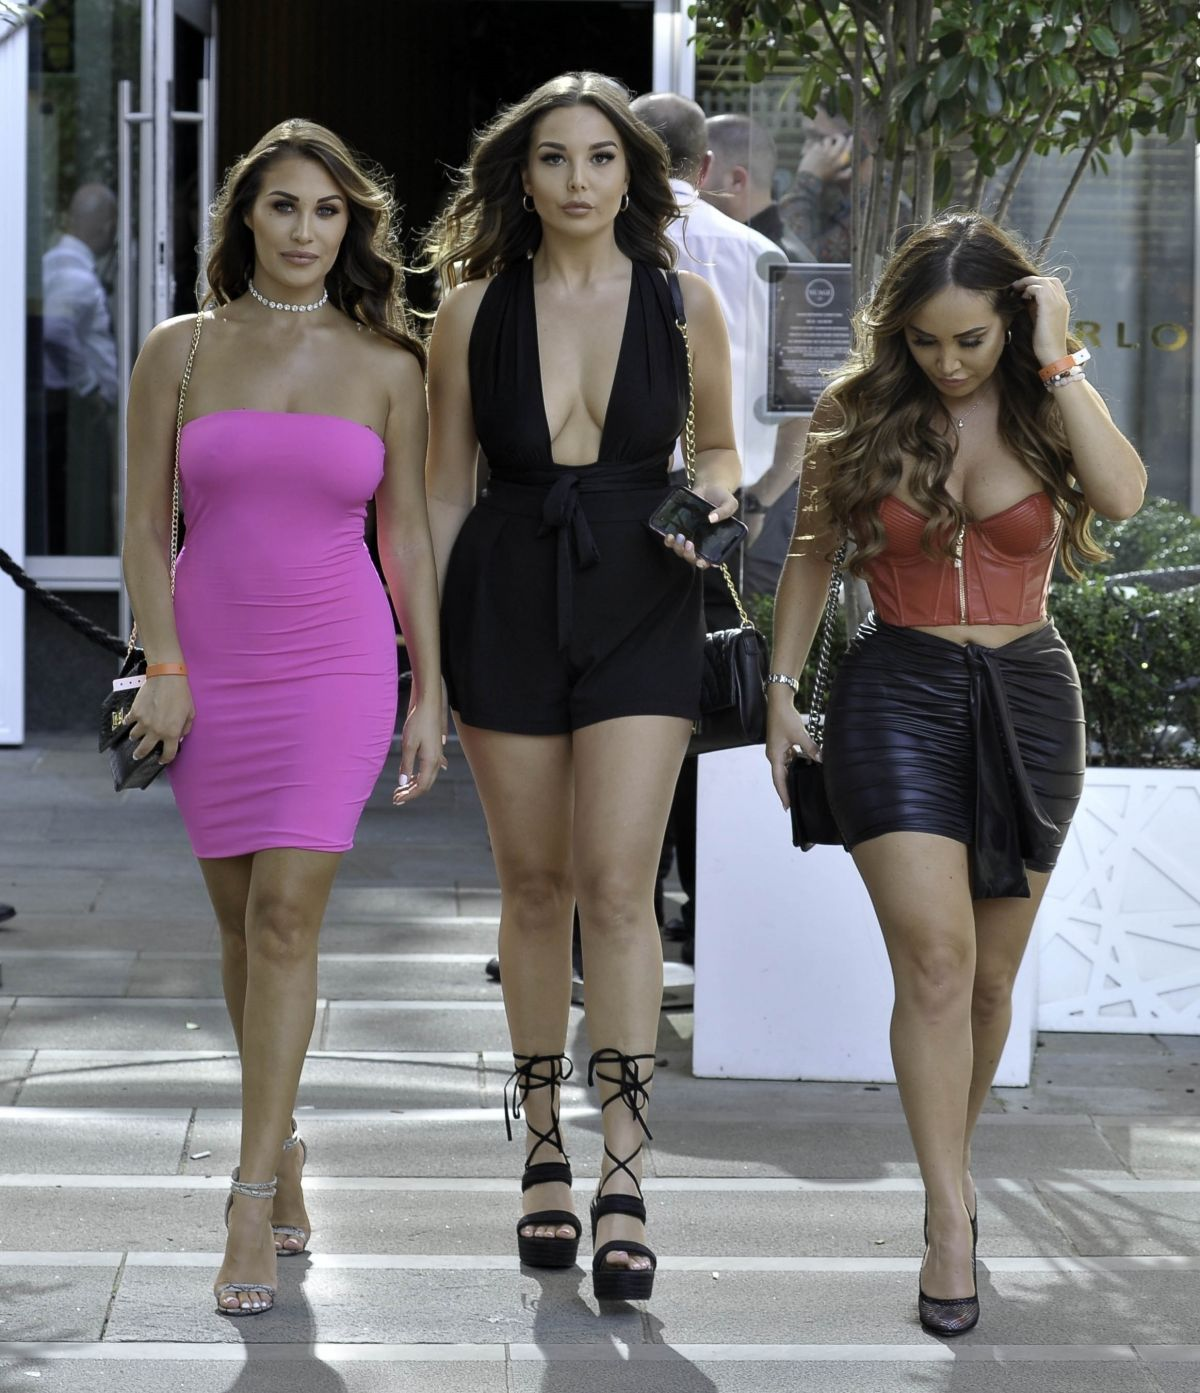Person: (746, 192, 1175, 1393), (91, 94, 457, 1292), (407, 62, 741, 1294)
